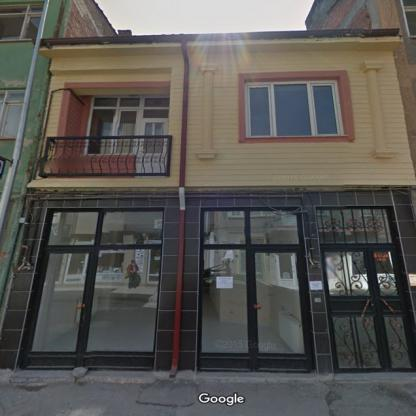door: (322, 246, 414, 372), (21, 248, 94, 369), (250, 248, 308, 370), (136, 119, 167, 178)
window: (45, 209, 163, 368), (201, 209, 303, 371), (245, 81, 344, 137), (85, 94, 168, 154), (318, 207, 396, 245), (2, 4, 41, 40), (1, 90, 24, 138)
